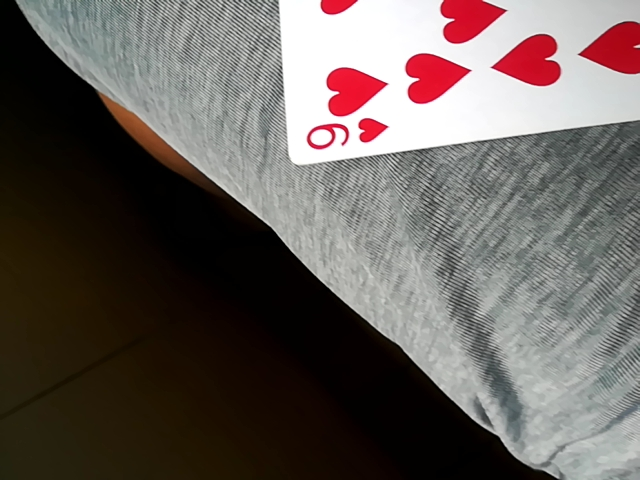hx 9: (275, 1, 637, 167)
